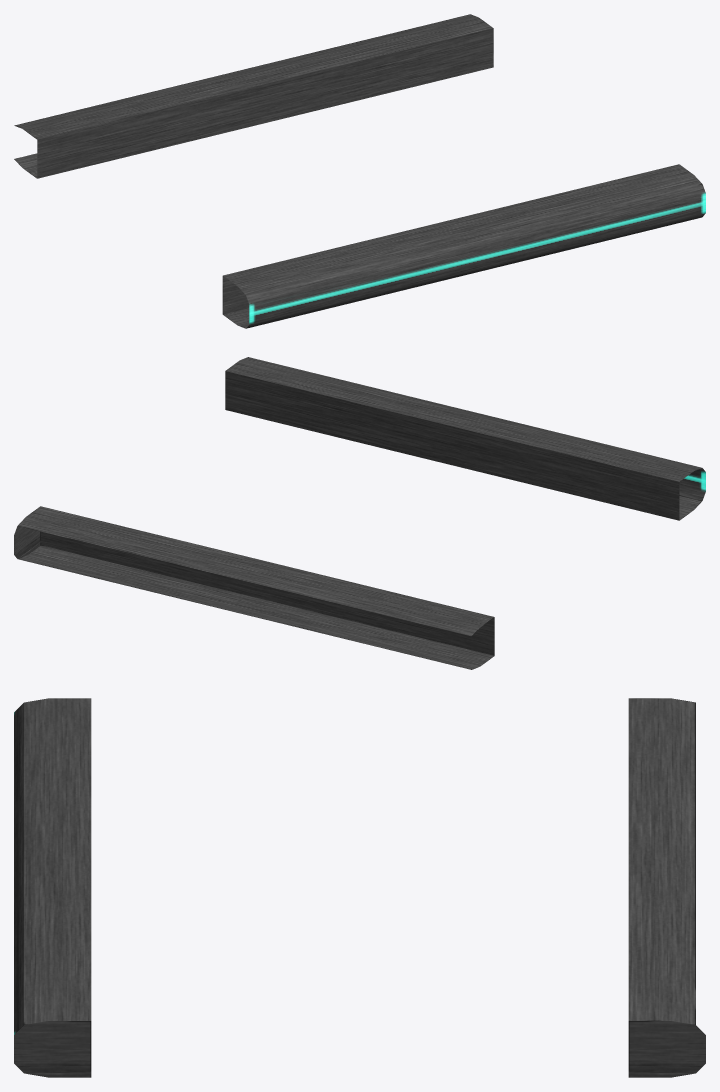
The model's file is Platform_002_Right_Ends.fbx.
3 views of the same model, one above another, from view 1: azimuth 30°, elevation 25°; view 2: azimuth 150°, elevation 25°; view 3: azimuth 270°, elevation 25° (orthographic). The views are drawn at different scales.
Visible parts, largest first — view 1: Platform_002_Right_Ends; view 2: Platform_002_Right_Ends; view 3: Platform_002_Right_Ends.
Boxes of the visible parts, x1,y1,x2,y2 form: Platform_002_Right_Ends: (14,14,705,328); Platform_002_Right_Ends: (14,357,705,669); Platform_002_Right_Ends: (14,698,705,1077).
Size of the model in its own units: 110 by 9.03 by 100.
